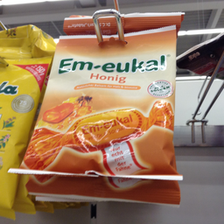candy: (23, 35, 175, 180)
